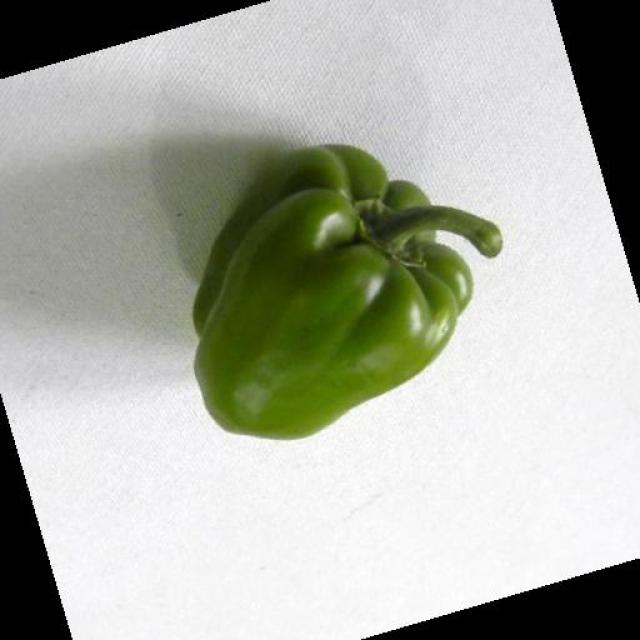Fresh_Capsicum: (126, 122, 520, 439)
